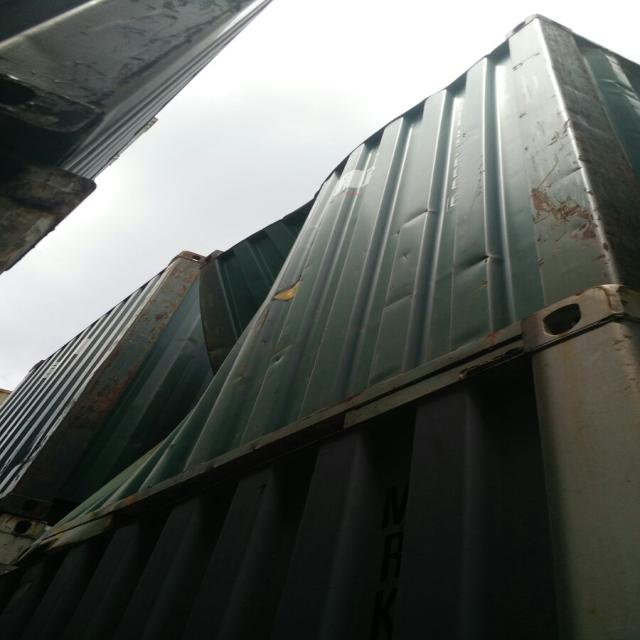dent: (101, 191, 319, 495), (395, 207, 440, 237), (456, 255, 490, 281), (385, 293, 420, 317), (272, 341, 294, 368), (395, 246, 415, 262)
